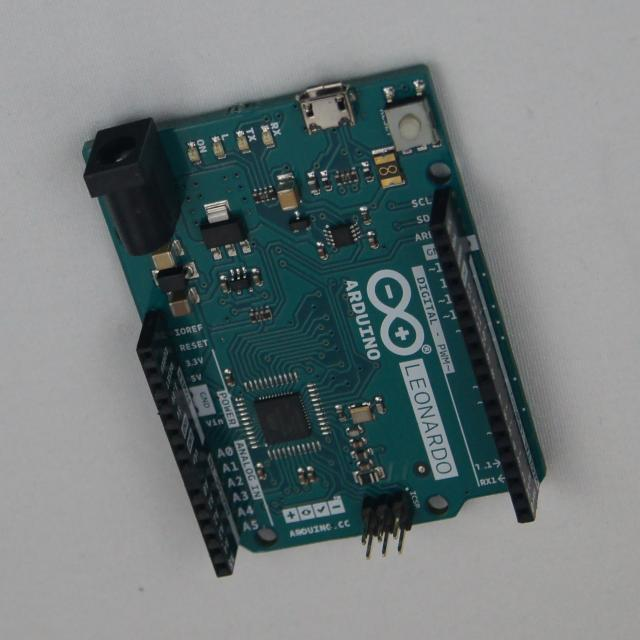Arduino-leonardo: (85, 65, 546, 577)
